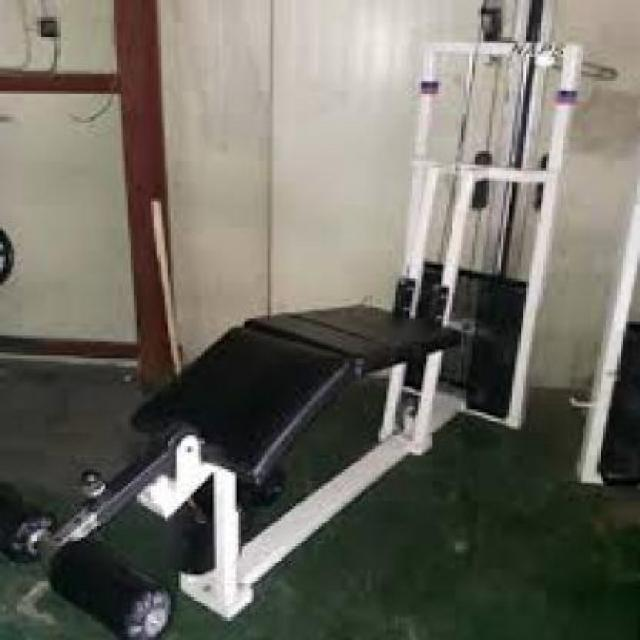reg curl machine: (3, 14, 603, 640)
